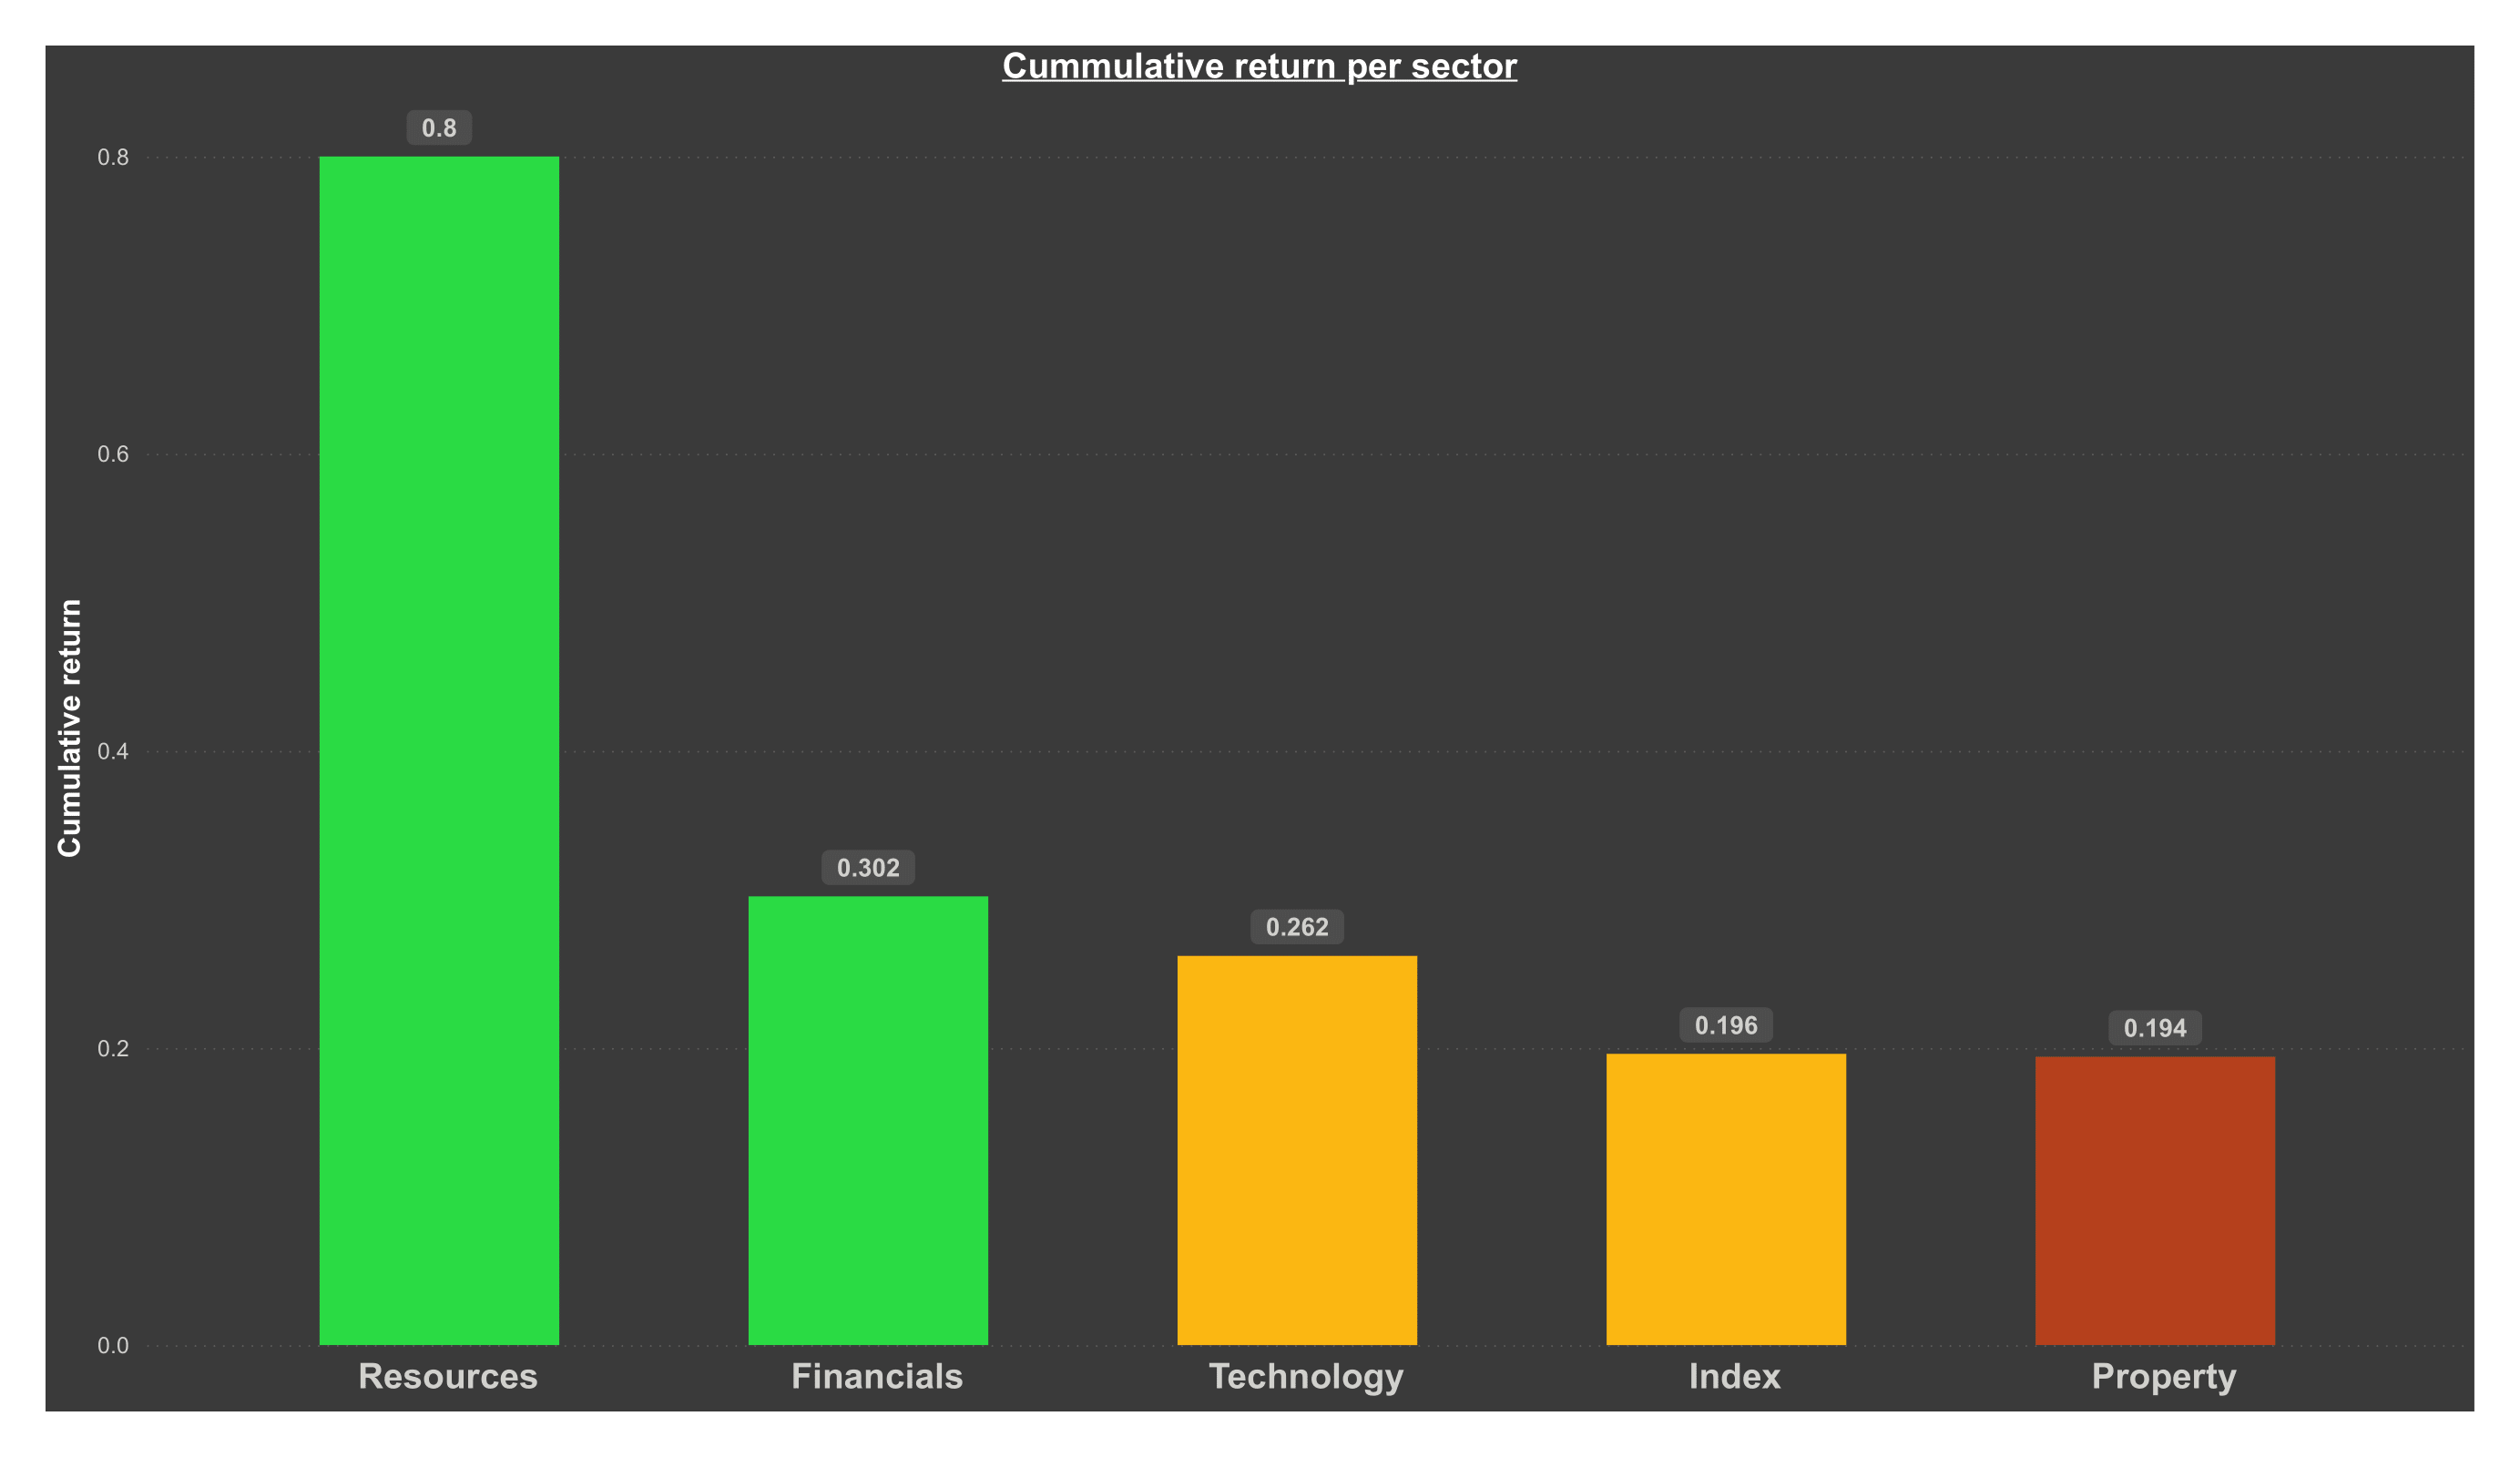

What the dashboard file says about the page in this screenshot:
{"tool":"powerbi","page":{"name":"Bar Chart — Cumulative Return per Sector","canvas":[1280,720],"ordinal":4},"visuals":[{"type":"columnChart","title":"Cummulative return per sector","fields":{"Y":["Avg(Overall metrics.Cumulative_Return)"],"Category":["Overall metrics.Sector"]},"box":[0,0,1280,720],"z":0}]}

Visuals, with their boxes on the page's 1280x720 design canvas (x1, y1, x2, y2). These are canvas units, not pixel positions in the 2520x1457 screenshot, which may show the page scaled, cropped or inside an application window:
"Cummulative return per sector" columnChart: 0,0,1280,720
